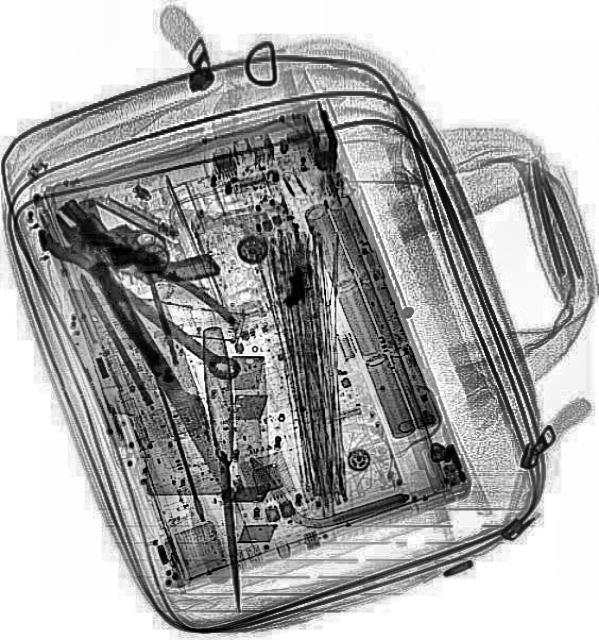Gun: (56, 151, 221, 319)
Knife: (88, 251, 252, 501), (198, 326, 252, 608)
Wrench: (33, 207, 249, 391)
